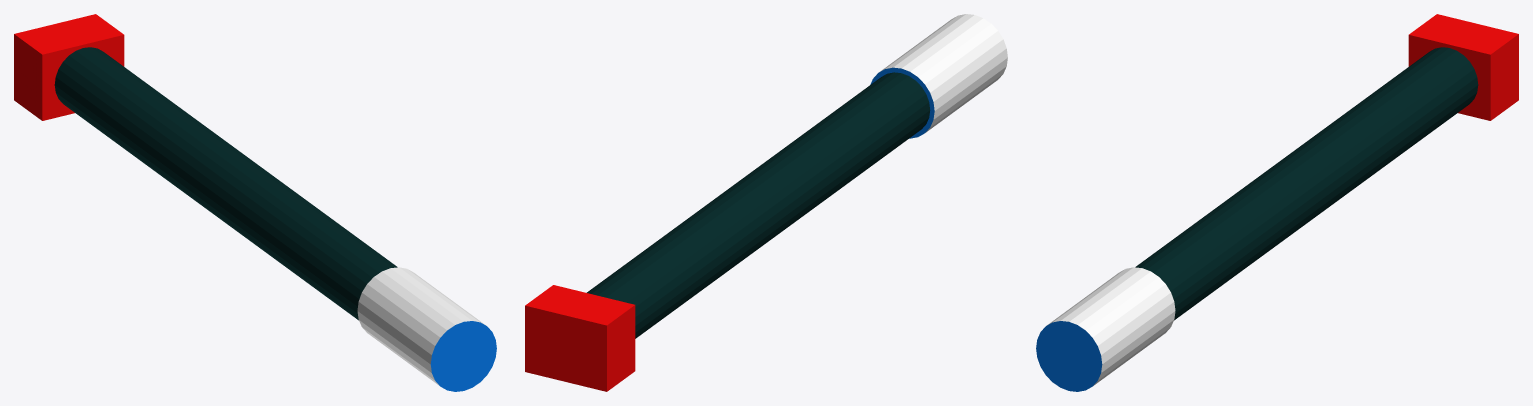
The model's file is SM High gain antenna swing arm.obj.
The picture shows the model from 3 angles, left to right: view 1: azimuth 30°, elevation 25°; view 2: azimuth 150°, elevation 25°; view 3: azimuth 330°, elevation 25°; orthographic projection.
Parts seen in each view (by area): view 1: Mesh.002, Mesh.001, Mesh.003, Mesh; view 2: Mesh.002, Mesh.003, Mesh.001, Mesh; view 3: Mesh.002, Mesh.001, Mesh.003, Mesh.
Part boxes in pixels (x1,y1,x2,y2): Mesh.002: (54,47,397,320); Mesh.001: (357,267,486,385); Mesh.003: (14,14,124,120); Mesh: (430,321,496,391); Mesh.002: (586,72,930,338); Mesh.003: (525,285,635,391); Mesh.001: (880,14,1007,132); Mesh: (870,67,934,138); Mesh.002: (1135,47,1478,320); Mesh.001: (1046,267,1175,385); Mesh.003: (1408,14,1518,120); Mesh: (1036,321,1102,391).
Bounding box in the file's own units: 0.127 × 0.1027 × 1.1.
